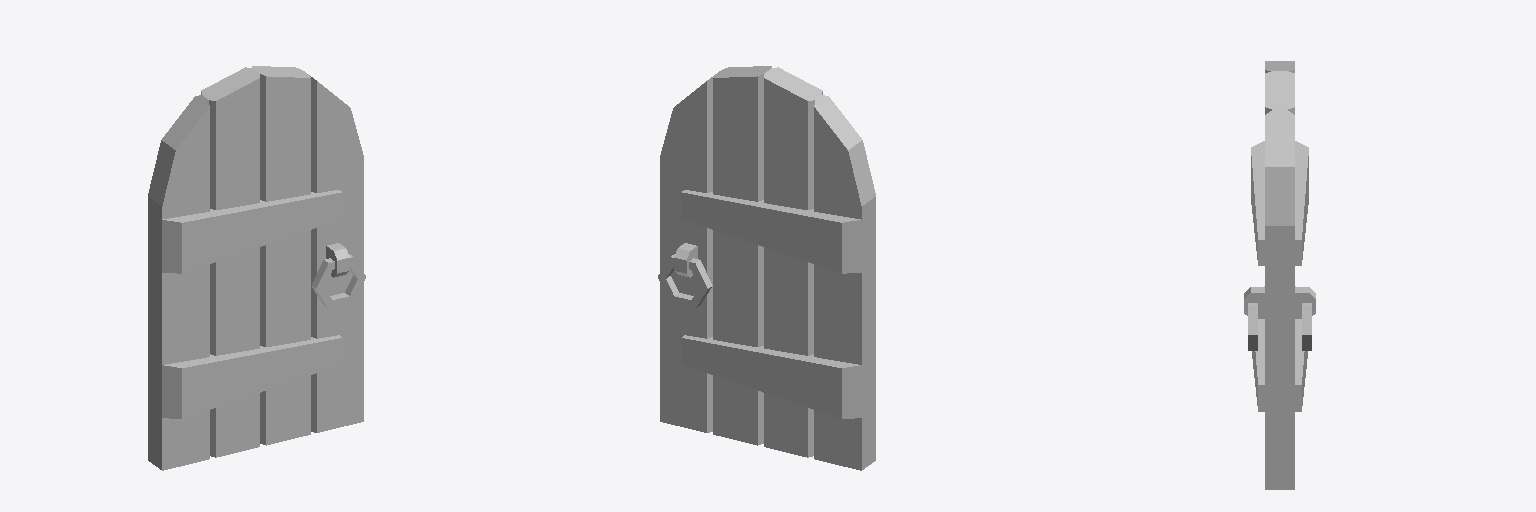
Rendered from prop_wall_big_door_wood.obj.
The picture shows the model from 3 angles: view 1: azimuth 30°, elevation 25°; view 2: azimuth 150°, elevation 25°; view 3: azimuth 270°, elevation 25°; orthographic projection.
Parts seen in each view (by area): view 1: object6, object2, object1, object3, object5; view 2: object6, object2, object1, object4, object5; view 3: object6, object2, object1, object5.
Part boxes in pixels (x1,y1,x2,y2): object6: (148,66,363,470); object2: (148,190,342,273); object1: (148,335,342,418); object3: (311,254,365,308); object5: (326,243,349,277); object6: (660,66,875,470); object2: (681,190,875,273); object1: (681,335,875,418); object4: (658,254,712,308); object5: (674,243,697,277); object6: (1265,61,1294,489); object2: (1251,141,1308,265); object1: (1252,286,1307,411); object5: (1244,287,1315,318).
Bounding box in the file's own units: 0.8 × 1.4 × 0.25.